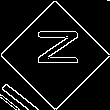N_W: (30, 35, 80, 75)
